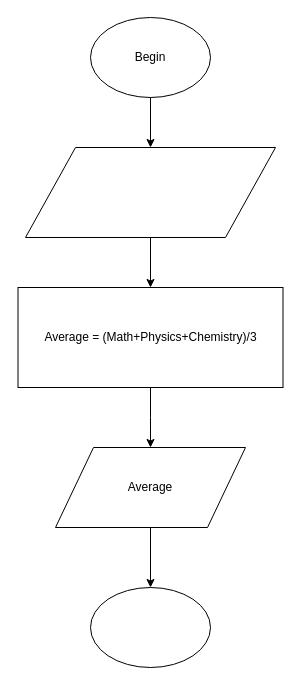
Image size: 300x685. Some labels were removed from this diagram. The box of each missing label's shape, as (x1, y1, x2, y2) in pixels:
End: (90, 586, 210, 668)
Input Math Input Physics Input Chemistry: (24, 146, 276, 238)
